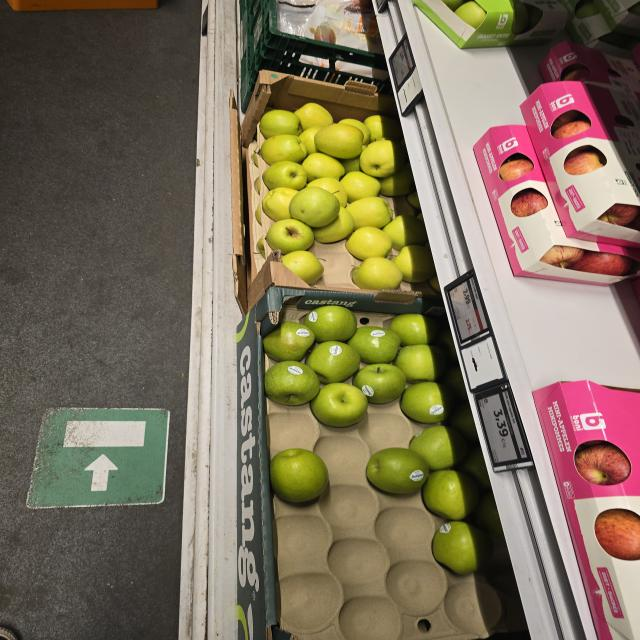Apple: (431, 521, 492, 575), (270, 448, 328, 503), (422, 469, 479, 520), (366, 448, 429, 494), (410, 425, 467, 471), (310, 383, 368, 427), (265, 361, 320, 405), (306, 341, 361, 383), (400, 382, 455, 423), (353, 364, 406, 404), (289, 187, 340, 228), (347, 326, 401, 364), (263, 322, 315, 361), (393, 345, 446, 383), (360, 138, 409, 178), (304, 306, 357, 342), (314, 123, 364, 159), (351, 257, 403, 290), (266, 219, 314, 254), (346, 226, 392, 261), (313, 207, 356, 244), (393, 245, 435, 282), (383, 215, 427, 250), (390, 314, 438, 346), (346, 197, 393, 229), (259, 134, 307, 165), (282, 251, 324, 285), (301, 152, 345, 183), (340, 171, 381, 203), (263, 161, 307, 190), (259, 109, 300, 139), (262, 188, 298, 221), (294, 103, 333, 130), (364, 115, 402, 141)
